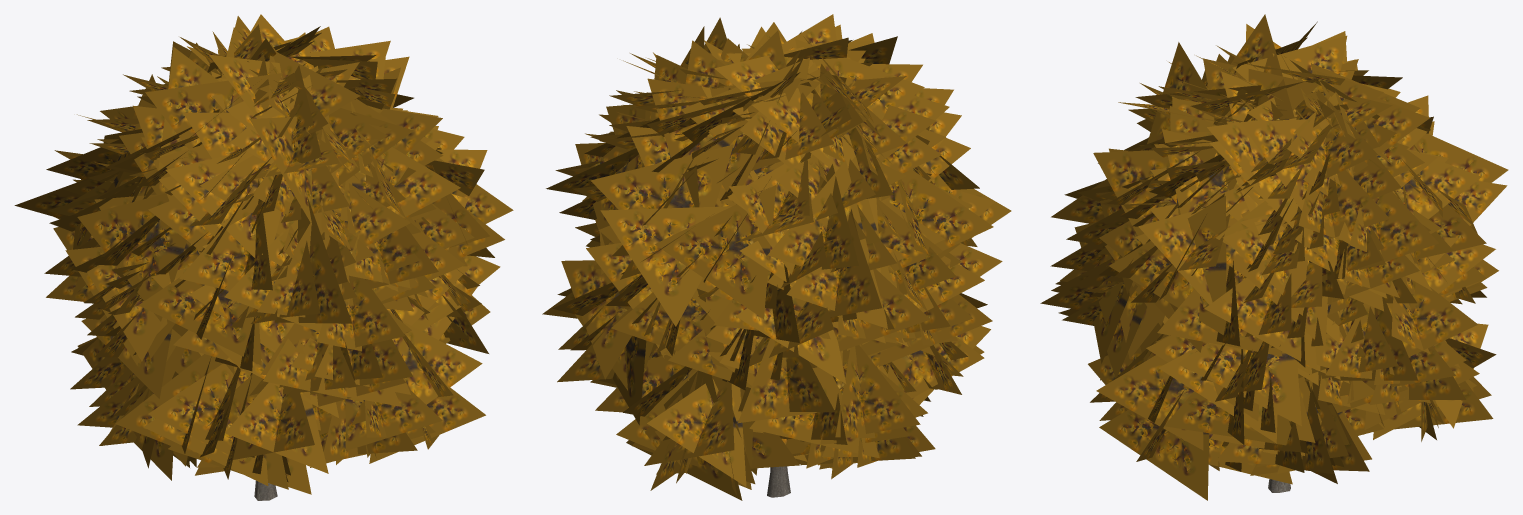
The model's file is Castanea_Dentata_Autumn_Young.glb.
3 renders of one model, left to right at view 1: azimuth 30°, elevation 25°; view 2: azimuth 150°, elevation 25°; view 3: azimuth 270°, elevation 25°, orthographic. The views are drawn at different scales.
Parts seen in each view (by area): view 1: Castanea_Dentata_Autumn_Young__LOD3; view 2: Castanea_Dentata_Autumn_Young__LOD3; view 3: Castanea_Dentata_Autumn_Young__LOD3.
Boxes of the visible parts, bbox=[...] form: Castanea_Dentata_Autumn_Young__LOD3: bbox=[14, 14, 513, 500]; Castanea_Dentata_Autumn_Young__LOD3: bbox=[542, 14, 1011, 500]; Castanea_Dentata_Autumn_Young__LOD3: bbox=[1040, 14, 1508, 500].
Size of the model in its own units: 12.78 by 13.91 by 13.28.
Materials: 2 (2 with a texture image).
